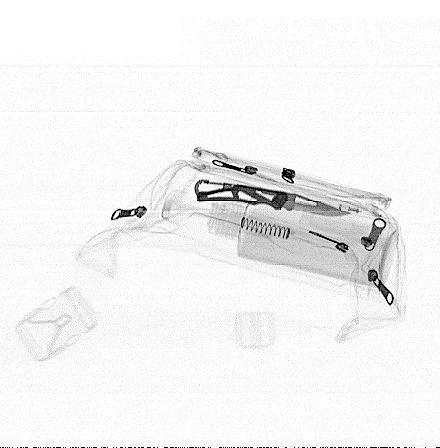Knife: (193, 179, 351, 216)
